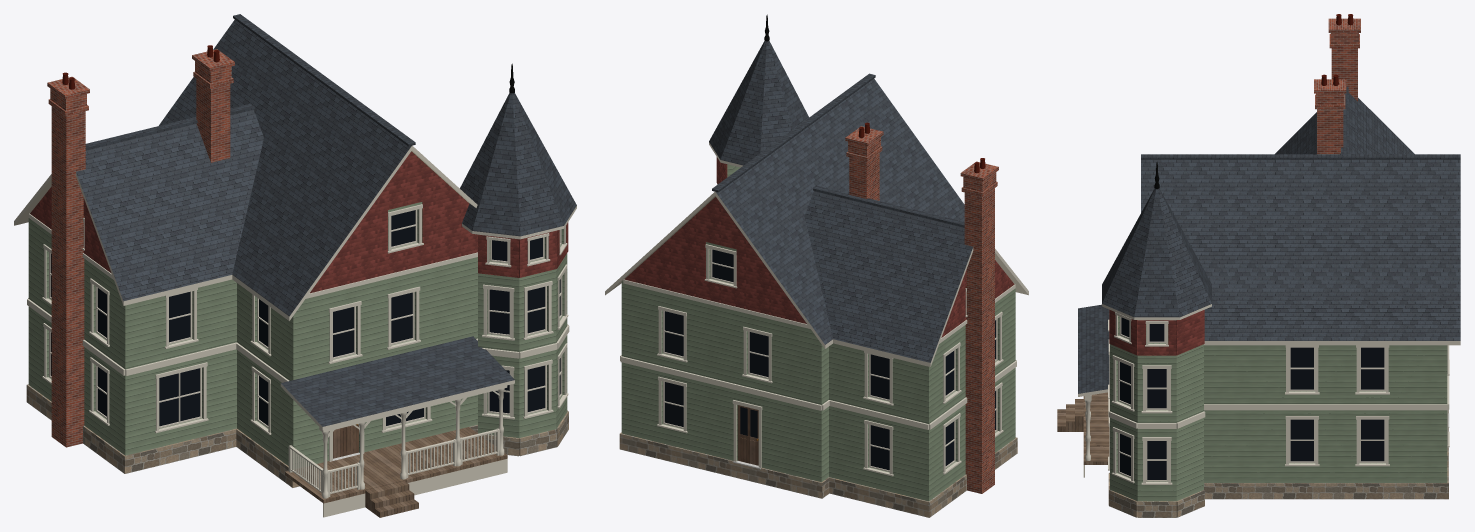
Rendered from vinish_victorian_house.fbx.
3 views of the same model, side by side, from view 1: azimuth 30°, elevation 25°; view 2: azimuth 150°, elevation 25°; view 3: azimuth 270°, elevation 25° (orthographic). The views are drawn at different scales.
Visible parts, largest first — view 1: Victorian_House-3, Victorian_House-12, Victorian_House-6, Victorian_House-0, Victorian_House-13, Victorian_House-9, Victorian_House-2, Victorian_House-1, Victorian_House-7, Victorian_House-10; view 2: Victorian_House-3, Victorian_House-12, Victorian_House-0, Victorian_House-6, Victorian_House-13, Victorian_House-1, Victorian_House-9, Victorian_House-7, Victorian_House-10; view 3: Victorian_House-3, Victorian_House-12, Victorian_House-6, Victorian_House-9, Victorian_House-1, Victorian_House-0, Victorian_House-13, Victorian_House-2, Victorian_House-7.
Boxes of the visible parts, box(x1,y1,x2,y2) form: Victorian_House-3: box(76, 14, 576, 426); Victorian_House-12: box(28, 151, 567, 469); Victorian_House-6: box(27, 204, 569, 517); Victorian_House-0: box(47, 49, 234, 447); Victorian_House-13: box(30, 151, 568, 293); Victorian_House-9: box(50, 210, 560, 426); Victorian_House-2: box(285, 427, 507, 517); Victorian_House-1: box(26, 384, 568, 487); Victorian_House-7: box(14, 145, 576, 430); Victorian_House-10: box(333, 424, 358, 458); Victorian_House-3: box(709, 41, 972, 362); Victorian_House-12: box(621, 164, 1015, 501); Victorian_House-0: box(845, 126, 998, 493); Victorian_House-6: box(620, 244, 1016, 476); Victorian_House-13: box(624, 157, 1014, 337); Victorian_House-1: box(619, 432, 1017, 517); Victorian_House-9: box(664, 249, 995, 470); Victorian_House-7: box(605, 142, 1028, 366); Victorian_House-10: box(737, 405, 758, 465); Victorian_House-3: box(1078, 86, 1460, 393); Victorian_House-12: box(1110, 316, 1447, 501); Victorian_House-6: box(1083, 312, 1449, 484); Victorian_House-9: box(1119, 317, 1384, 479); Victorian_House-1: box(1108, 409, 1448, 517); Victorian_House-0: box(1314, 18, 1360, 154); Victorian_House-13: box(1109, 309, 1204, 355); Victorian_House-2: box(1057, 392, 1109, 464); Victorian_House-7: box(1078, 304, 1460, 396).
Size of the model in its own units: 14.53 by 12.65 by 13.75.
Materials: 16 (9 with a texture image).
